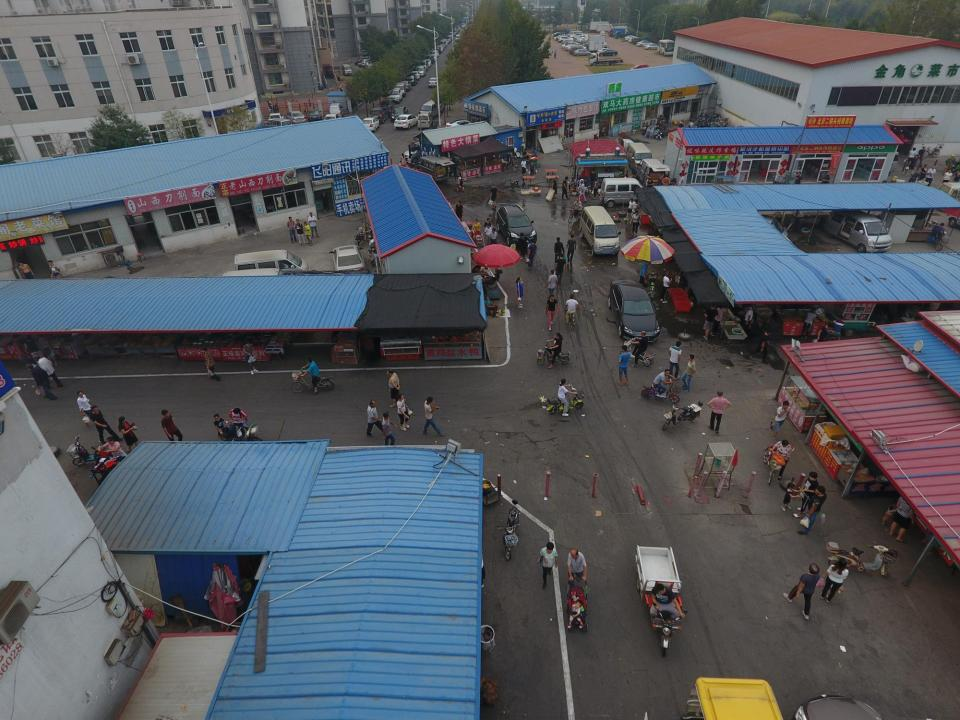bus: (657, 39, 675, 57)
car: (607, 279, 661, 343), (496, 204, 538, 246), (329, 244, 367, 279), (445, 117, 478, 132), (393, 114, 418, 129), (390, 105, 408, 122), (361, 117, 380, 133), (286, 110, 306, 125), (386, 87, 402, 104), (323, 112, 341, 127), (379, 99, 396, 113), (306, 109, 322, 122), (629, 63, 649, 73), (268, 112, 284, 124), (404, 73, 418, 86), (598, 49, 618, 56), (635, 40, 652, 48), (596, 48, 614, 55), (573, 49, 591, 56), (400, 81, 412, 91), (644, 43, 660, 50), (428, 77, 438, 88), (410, 70, 420, 81)
truck: (588, 52, 624, 66), (588, 40, 609, 54)
van: (823, 208, 892, 254), (219, 268, 299, 307), (233, 250, 311, 285), (580, 206, 622, 256), (598, 178, 646, 207), (415, 154, 455, 182), (635, 158, 671, 189), (625, 142, 655, 174), (265, 118, 293, 132), (416, 112, 434, 131), (369, 106, 387, 124), (329, 103, 344, 118), (395, 82, 406, 98), (341, 63, 353, 76), (415, 65, 427, 77)
